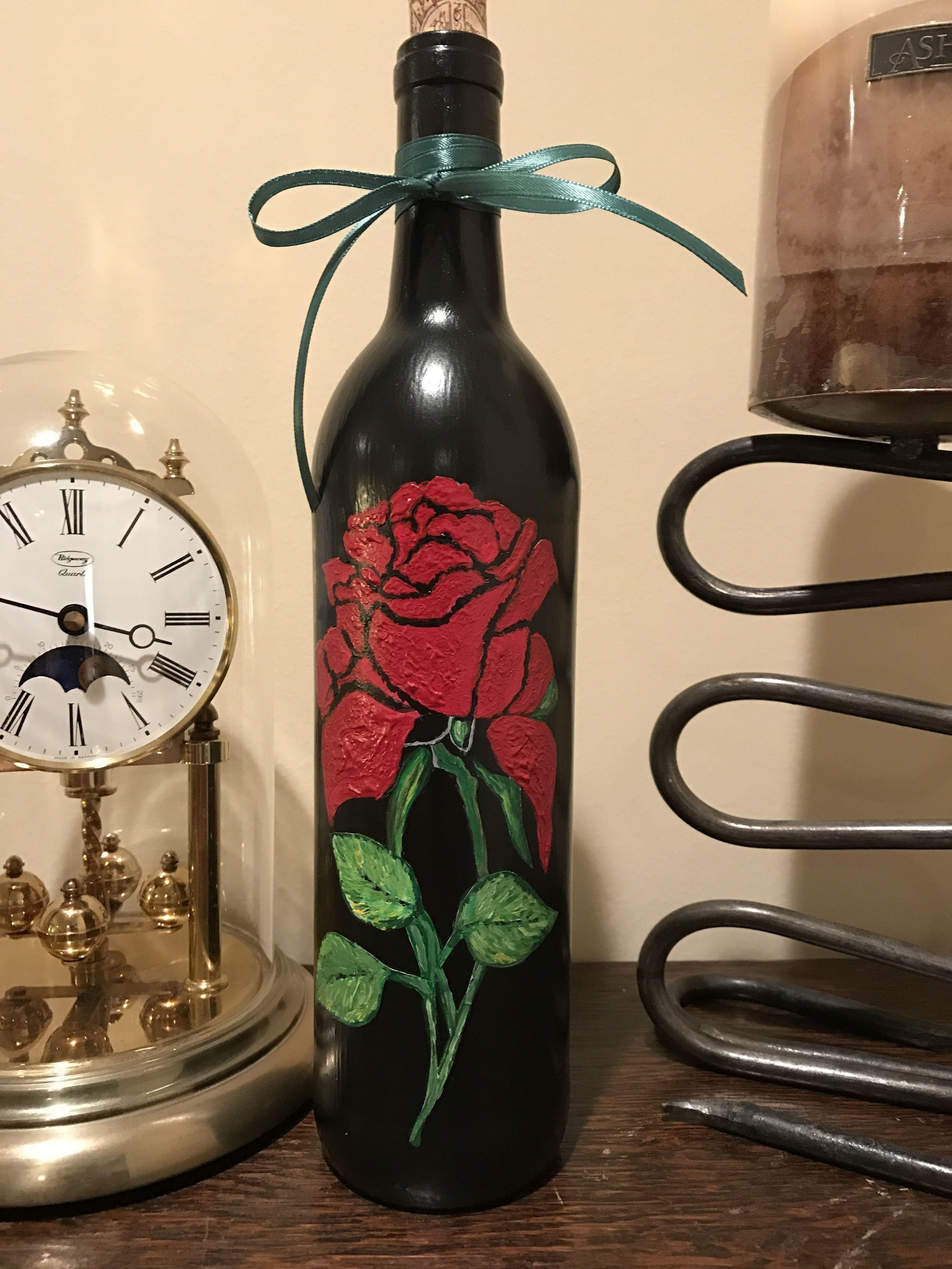bottle-glass: (296, 27, 583, 1226)
